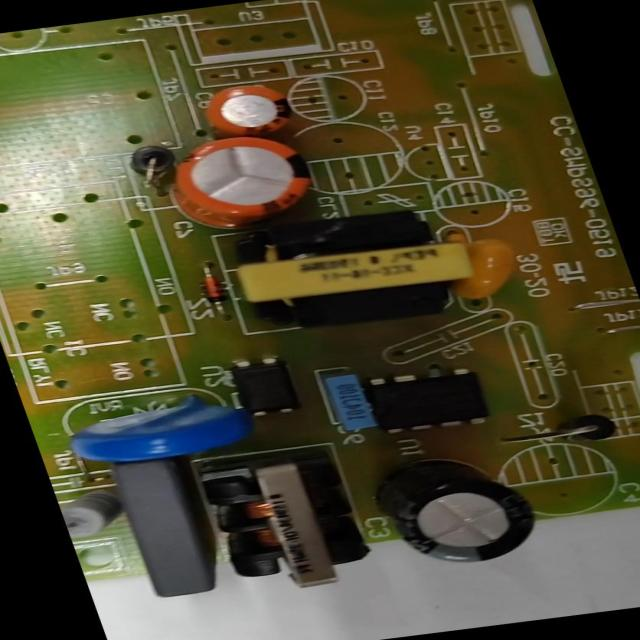Cap1: (158, 128, 327, 234)
Cap2: (195, 81, 296, 141)
Cap3: (375, 452, 544, 570)
MOSFET: (366, 366, 494, 436)
Mov: (61, 397, 258, 469)
Resistor: (56, 489, 126, 539)
Transformer: (223, 205, 479, 326), (193, 458, 378, 598)
